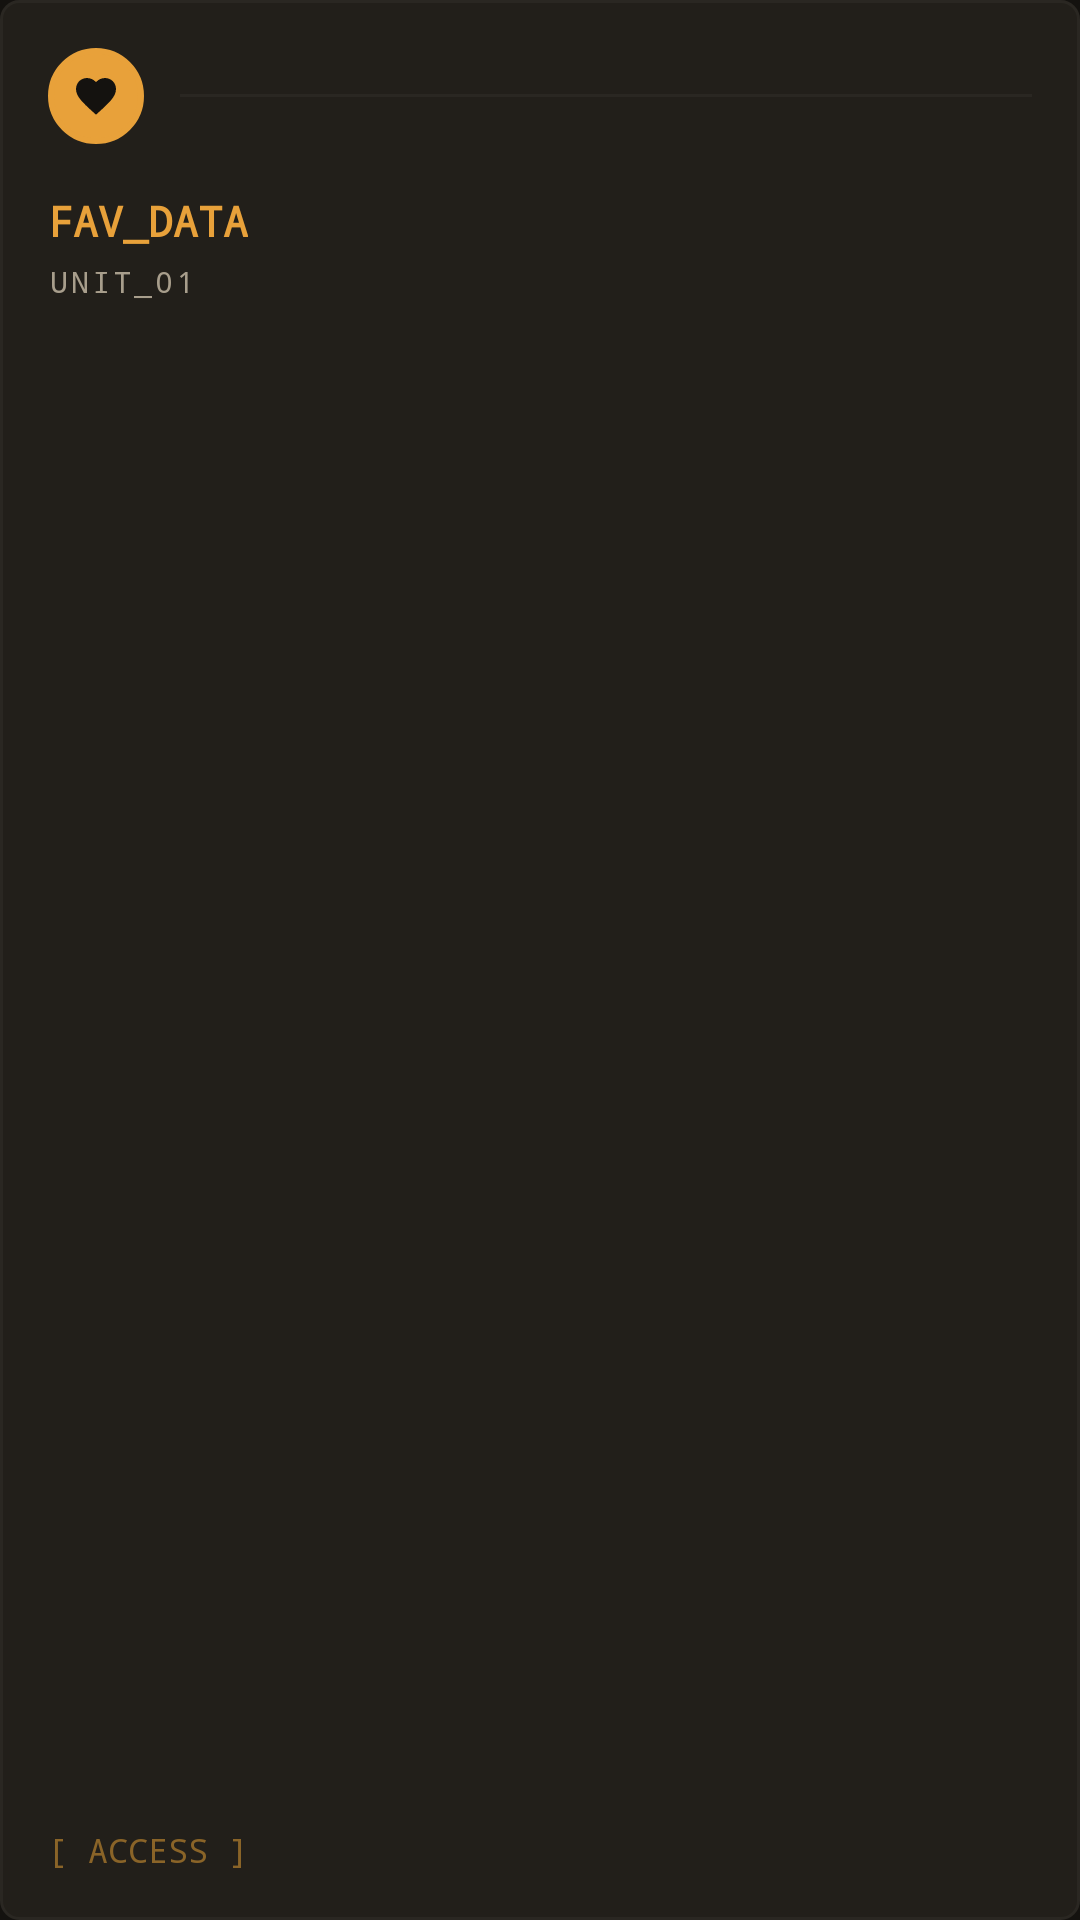

Icon bounding boxes for this 1080×1920 phone screenshot, format [x1, y1, x2, y2]:
Ulubione: [48, 48, 144, 144]
